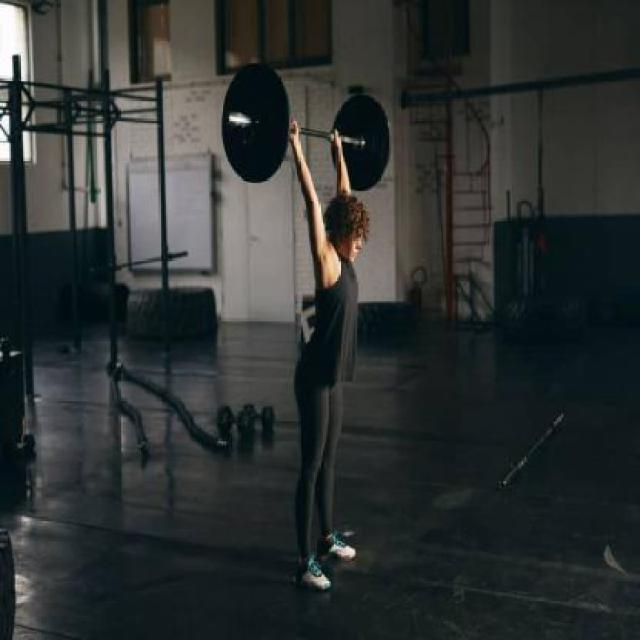barbell: (217, 53, 297, 191)
